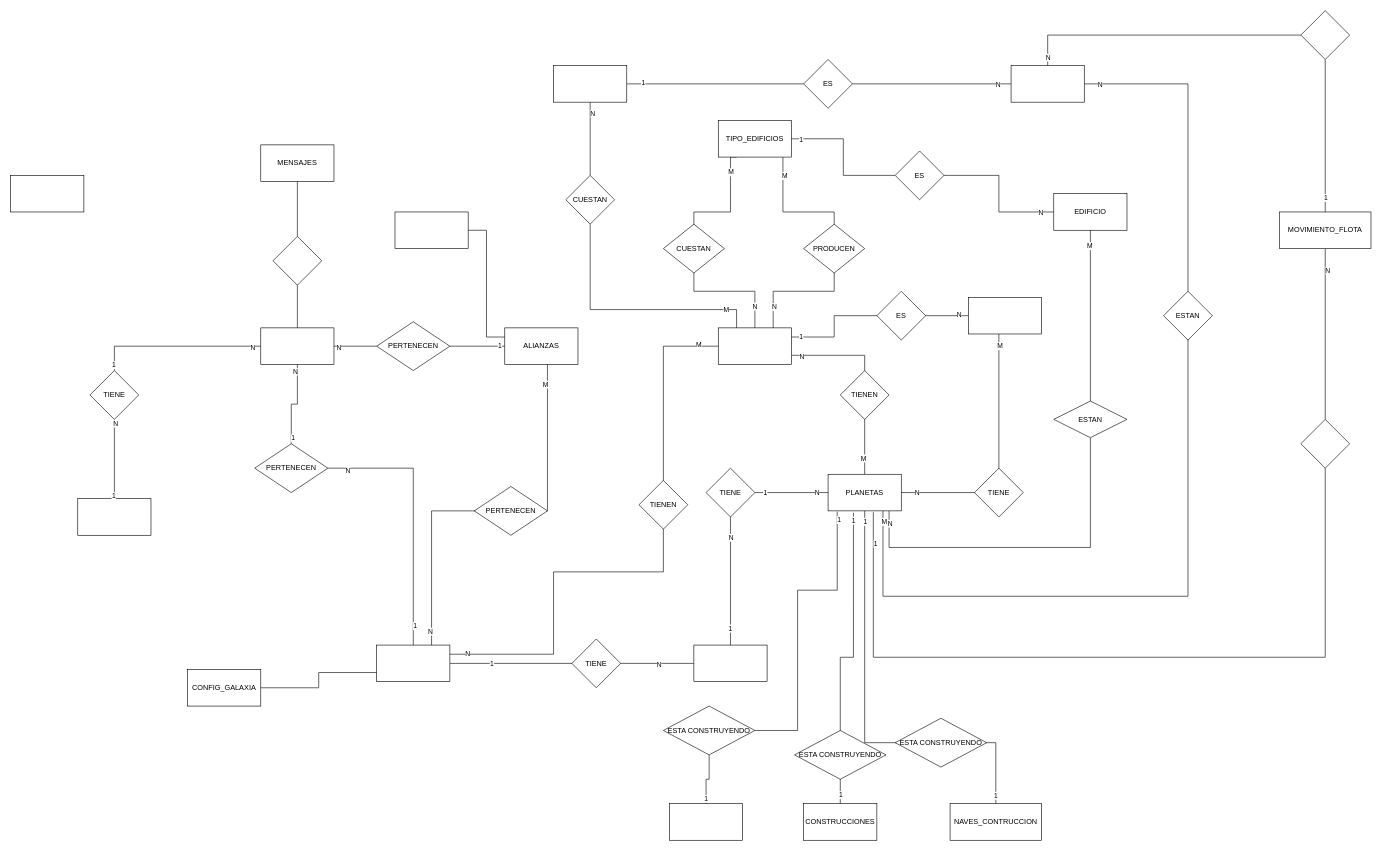
Image size: 1382x851. Some labels were removed from this diagram. Each missing label, with the centre of its shape:
"CONFIG_ALIANZA" goes at point 431,230.
"CONFIGURACION" goes at point 47,193.
"DESTINO" goes at point 1325,443.
"ENVIADO" goes at point 297,260.
"FLOTA" goes at point 1047,83.
"GALAXIAS" goes at point 413,663.
"HACEN" goes at point 1325,34.
"INVESTIGACIONES" goes at point 706,821.
"JUGADORES" goes at point 114,516.
"NODOS" goes at point 1005,315.
"PERSONAJES" goes at point 297,345.
"RECURSOS" goes at point 754,345.
"SECTORES" goes at point 730,663.
"TIPO_FLOTA" goes at point 590,83.
